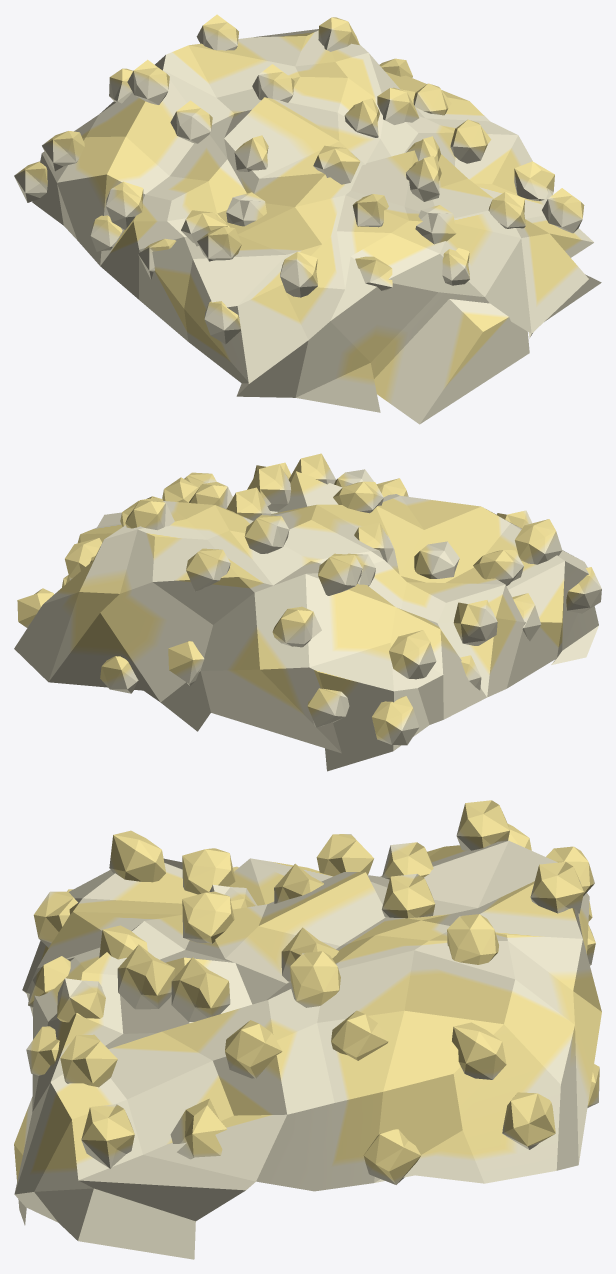
Rendered from SM_Veh_Popcorn_Cart_Popcorn_Pile_01.obj.
3 renders of one model, top to bottom at view 1: azimuth 30°, elevation 25°; view 2: azimuth 150°, elevation 25°; view 3: azimuth 270°, elevation 25°, orthographic. The views are drawn at different scales.
Parts seen in each view (by area): view 1: SM_Veh_Popcorn_Cart_Popcorn_Pile_01_0; view 2: SM_Veh_Popcorn_Cart_Popcorn_Pile_01_0; view 3: SM_Veh_Popcorn_Cart_Popcorn_Pile_01_0.
Part boxes in pixels (x1=…): SM_Veh_Popcorn_Cart_Popcorn_Pile_01_0: x1=14, y1=14, x2=601, y2=424; SM_Veh_Popcorn_Cart_Popcorn_Pile_01_0: x1=14, y1=453, x2=601, y2=771; SM_Veh_Popcorn_Cart_Popcorn_Pile_01_0: x1=14, y1=800, x2=601, y2=1259.
Size of the model in its own units: 0.5146 by 0.3205 by 0.4878.
Materials: 1 (1 with a texture image).
